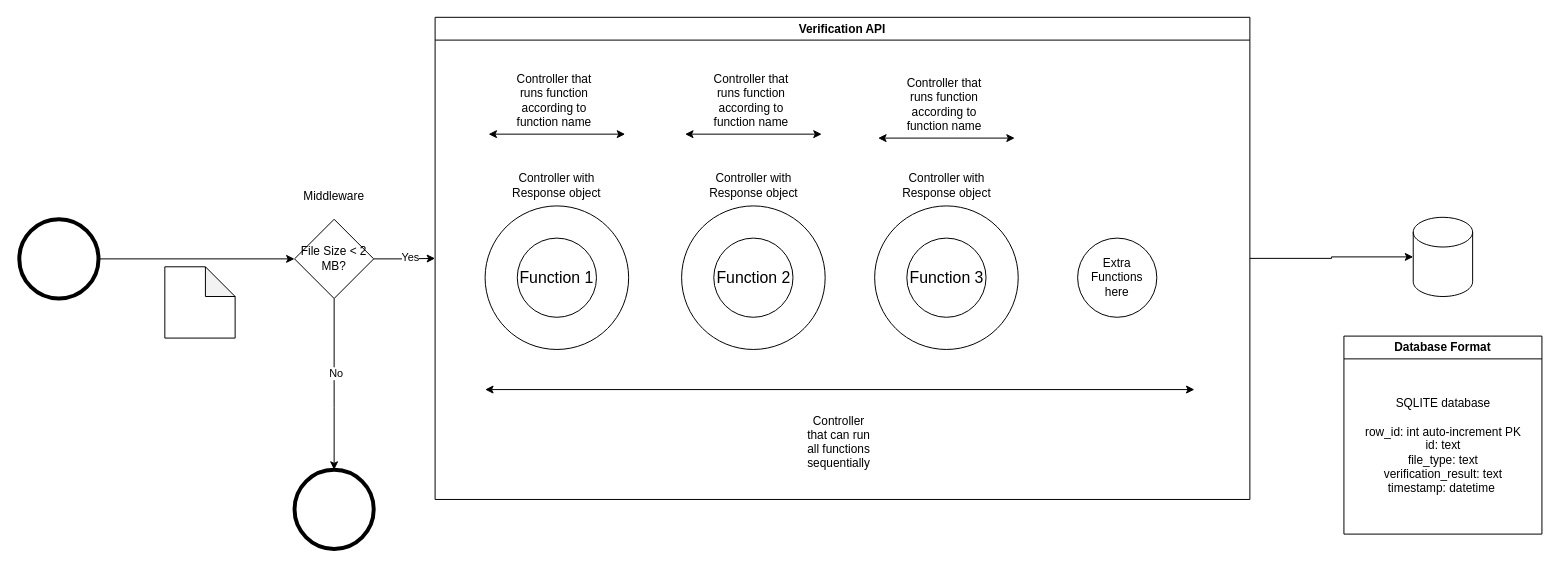
Some shapes in this 1559 by 568 pixel diagram are drawn without their labels. Each missing label, with the centre of its shape:
"JSON File Input" goes at pixel 199 302.
"Reject" goes at pixel 333 508.
"Start" goes at pixel 58 258.
"VerifyDB" goes at pixel 1442 256.
